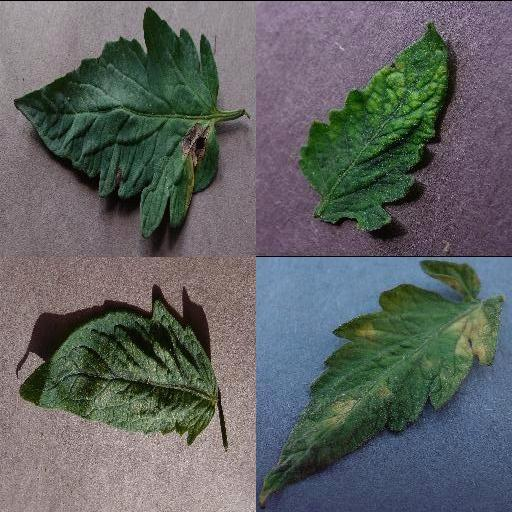Early Blight: (14, 6, 222, 238)
Leaf Mold: (256, 258, 504, 510)
Mosaic Virus: (297, 21, 451, 231)
Spider Mites: (19, 297, 217, 443)
